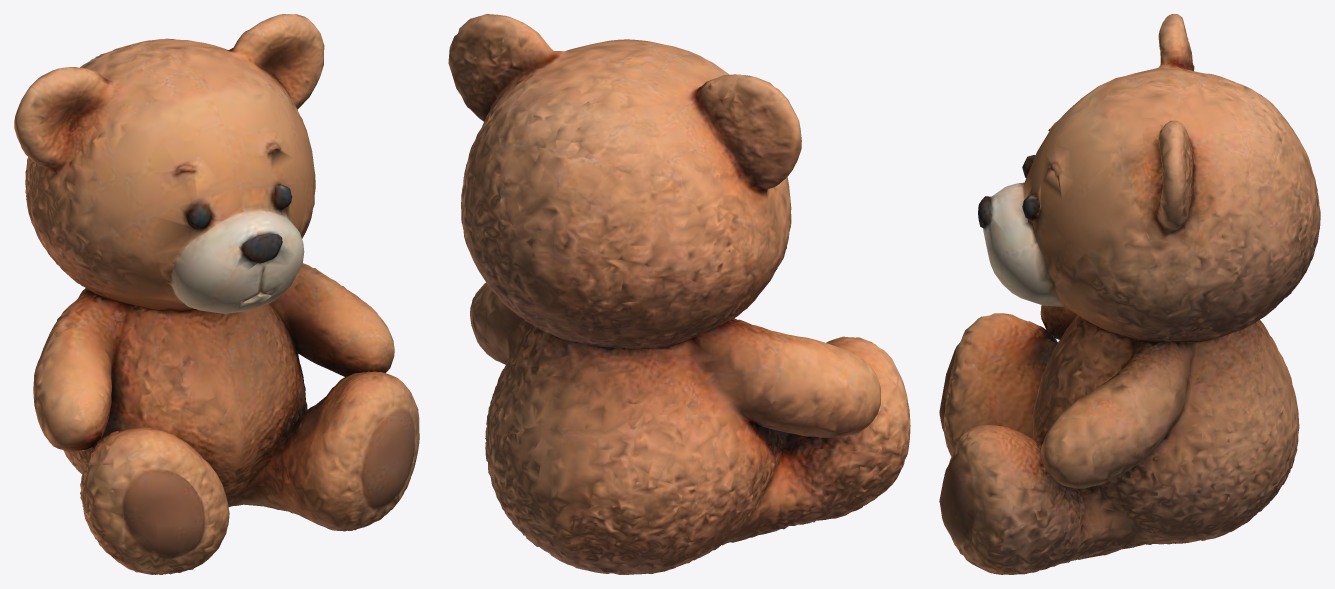
3 views of the same model, side by side, from view 1: azimuth 30°, elevation 25°; view 2: azimuth 150°, elevation 25°; view 3: azimuth 270°, elevation 25° (orthographic). The views are drawn at different scales.
Size of the model in its own units: 1.53 by 1.9 by 1.46.
Materials: 1 (1 with a texture image).
